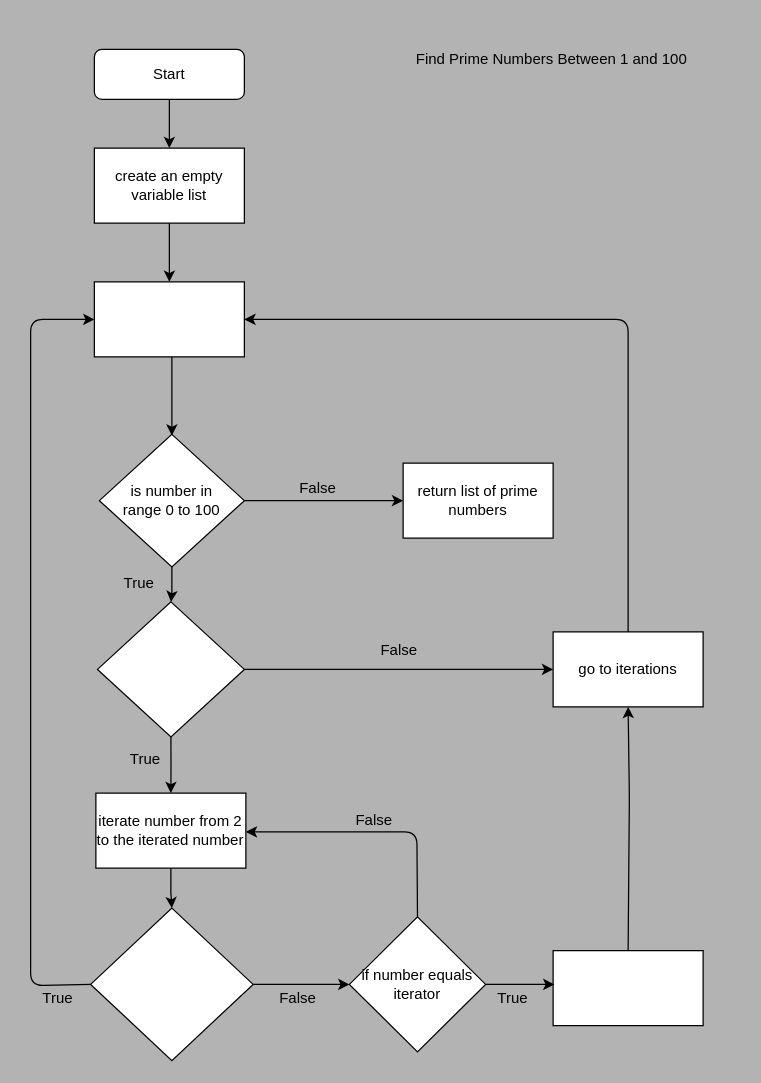
Some shapes in this 761 by 1083 pixel diagram are drawn without their labels. The shapes that lost their labels are listed below. From the top down, each one's centre as x and y in pixels, then its label:
At (168,319): "iterate by 1 between numbers 0 and 100".
At (170,669): "Is the number greater than 1?".
At (171,984): "number equalled to zero when divided by iteration".
At (627,987): "add number to variable list".
